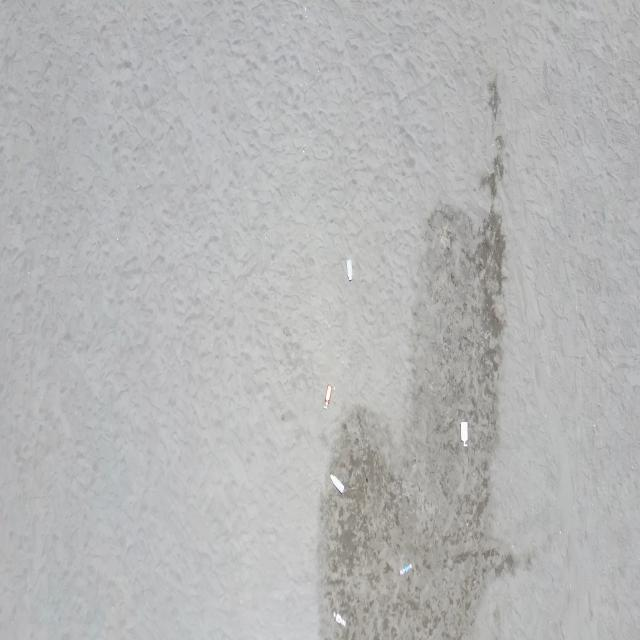Garbage: (329, 473, 343, 492), (324, 384, 332, 407), (460, 420, 467, 446), (332, 612, 344, 626), (400, 563, 412, 575), (347, 258, 351, 280)
